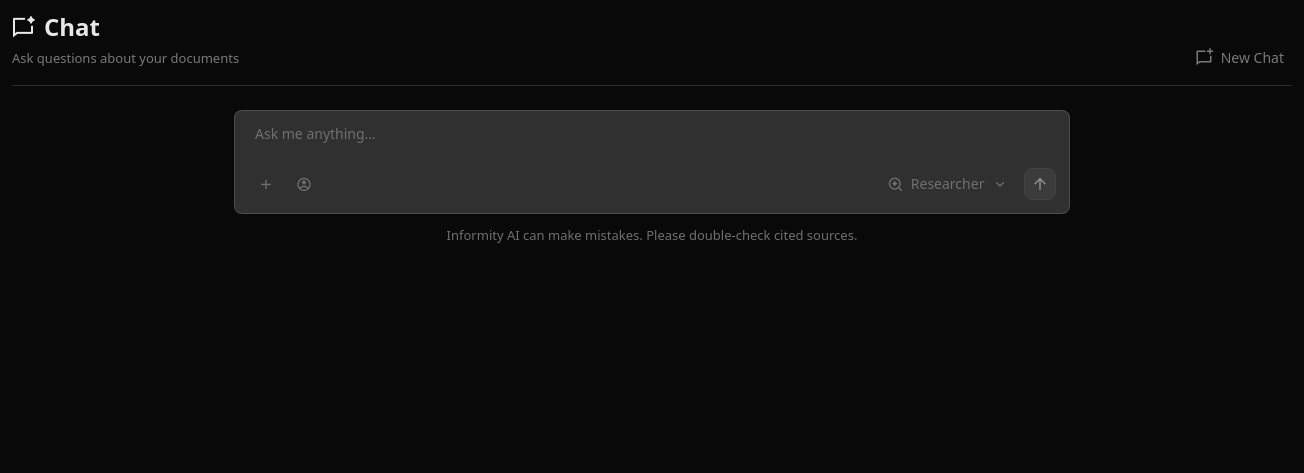
ChatView new chat behavior › strips /agent from researcher queries and sets agent mode only for that request
Type "/agent Show me all information I have on my Escondido property." into the text box named "Chat message input". click: (652, 162)
box: [234,110,1070,214]
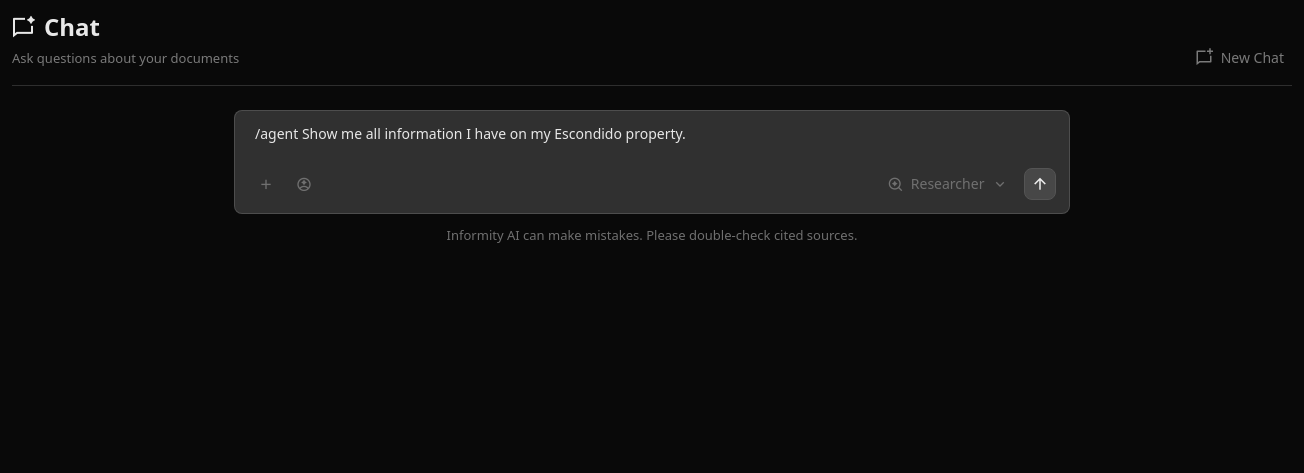
Click the button named "Send message". click: (1040, 184)
box: [1024,168,1056,200]
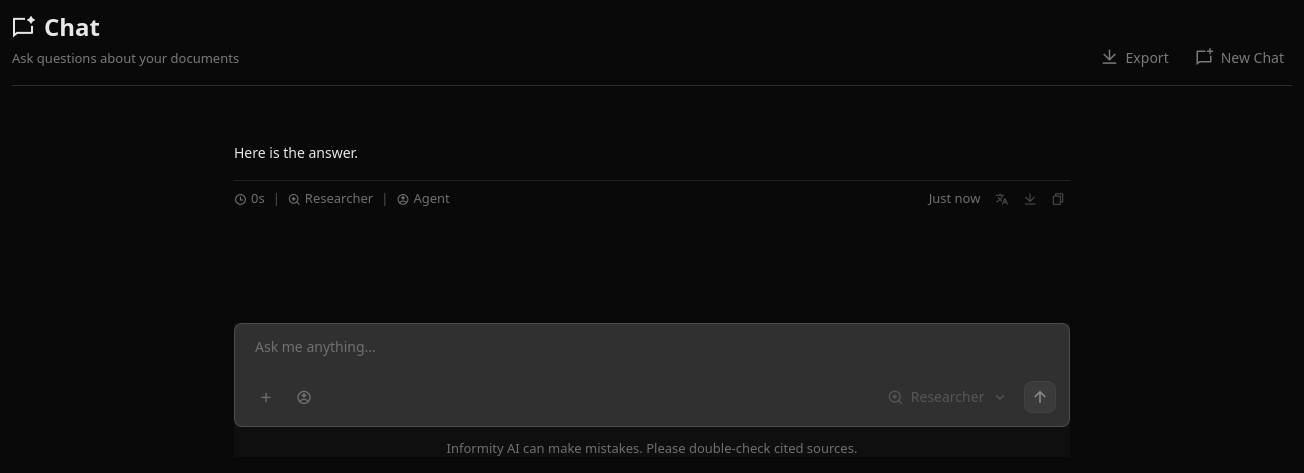
Expected: the text box named "Chat message input" is empty, [234,323,1070,427]
Expected: the text "Here is the answer." is shown, [234,142,358,162]
Expected: the text "Agent" is shown, [413,189,450,209]
